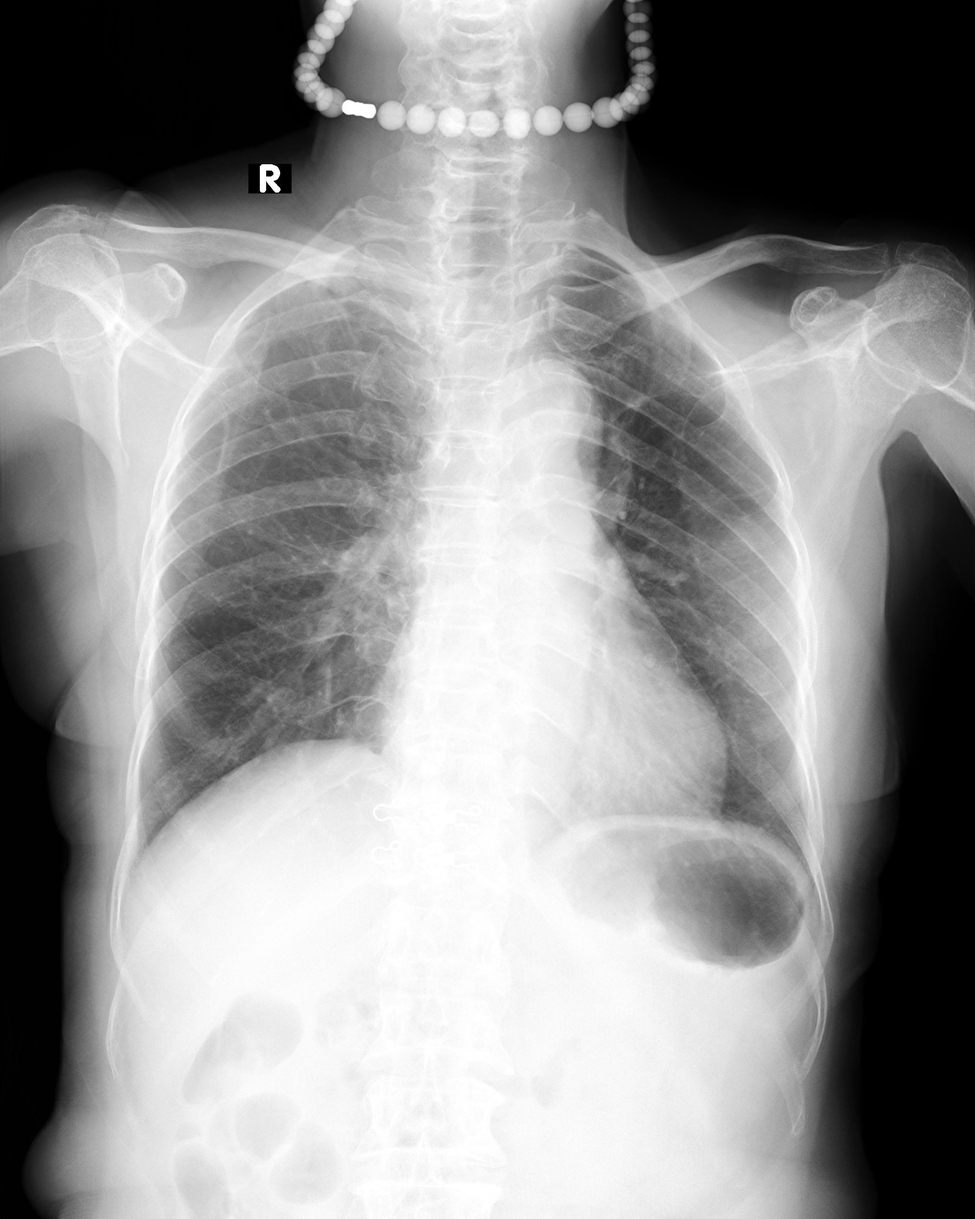Aortic enlargement: (501, 353, 602, 461)
